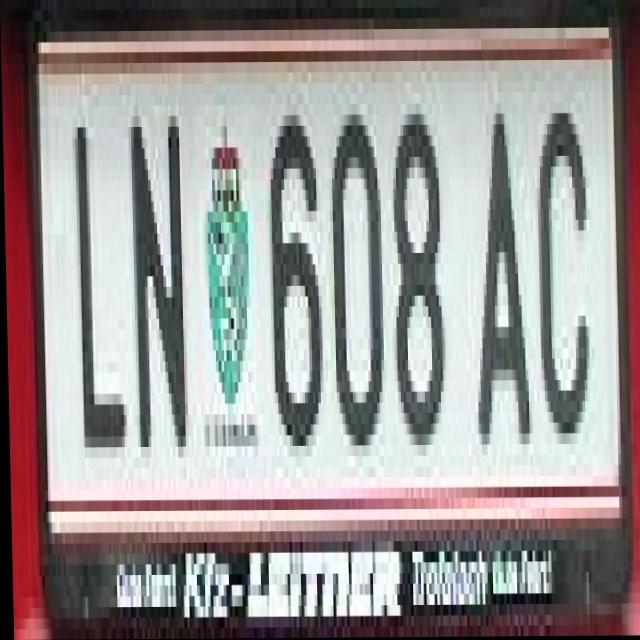0: (327, 94, 383, 435)
6: (263, 105, 320, 457)
8: (386, 125, 445, 446)
A: (466, 114, 533, 445)
C: (533, 114, 594, 445)
L: (71, 127, 128, 448)
N: (122, 116, 189, 447)
